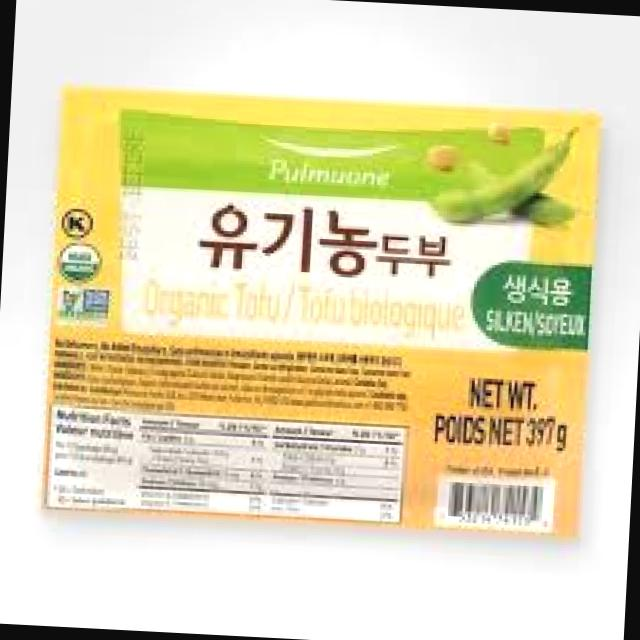tof: (2, 50, 628, 557)
